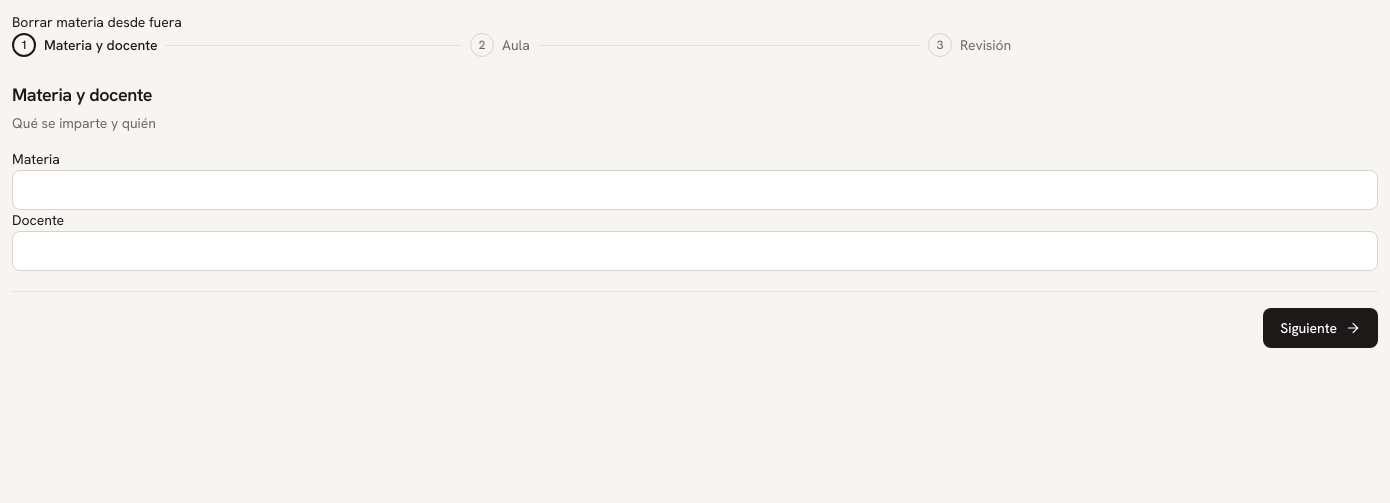
it: Asistente · navegación y validación por paso › un paso inválido no avanza: muestra el resumen de errores y enfoca el primer campo inválido
Click the button "Siguiente": [1321, 328] box [1263,308,1378,348]
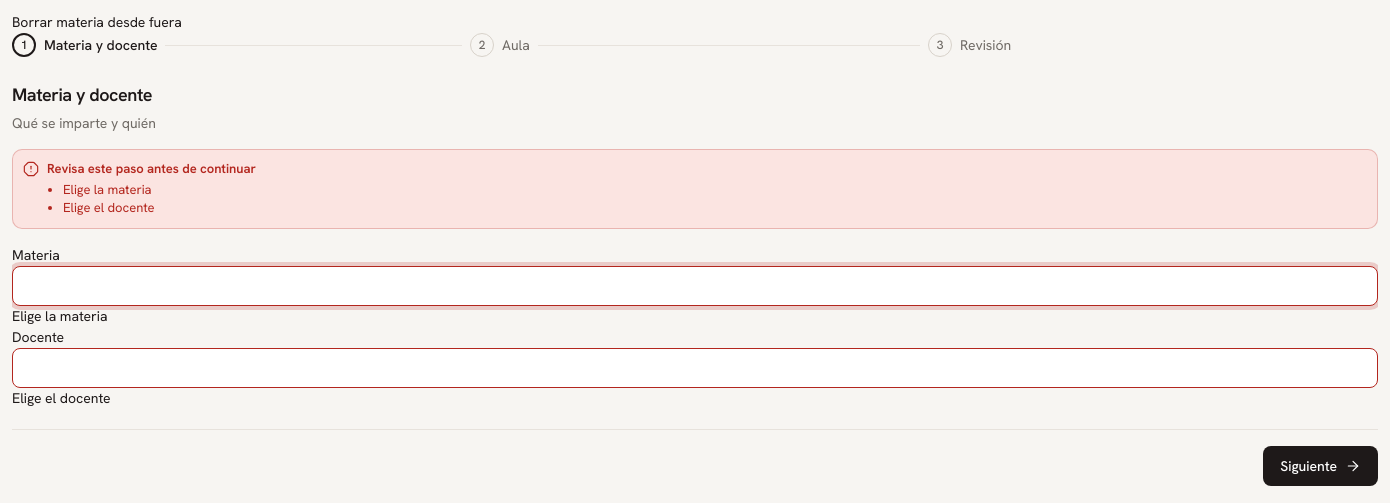
Now the message shows "Revisa este paso antes de continuar", box [47,160,256,177]
Now the message shows "Elige la materia", box [63,181,152,198]
Now the message shows "Elige el docente", box [63,199,154,216]
